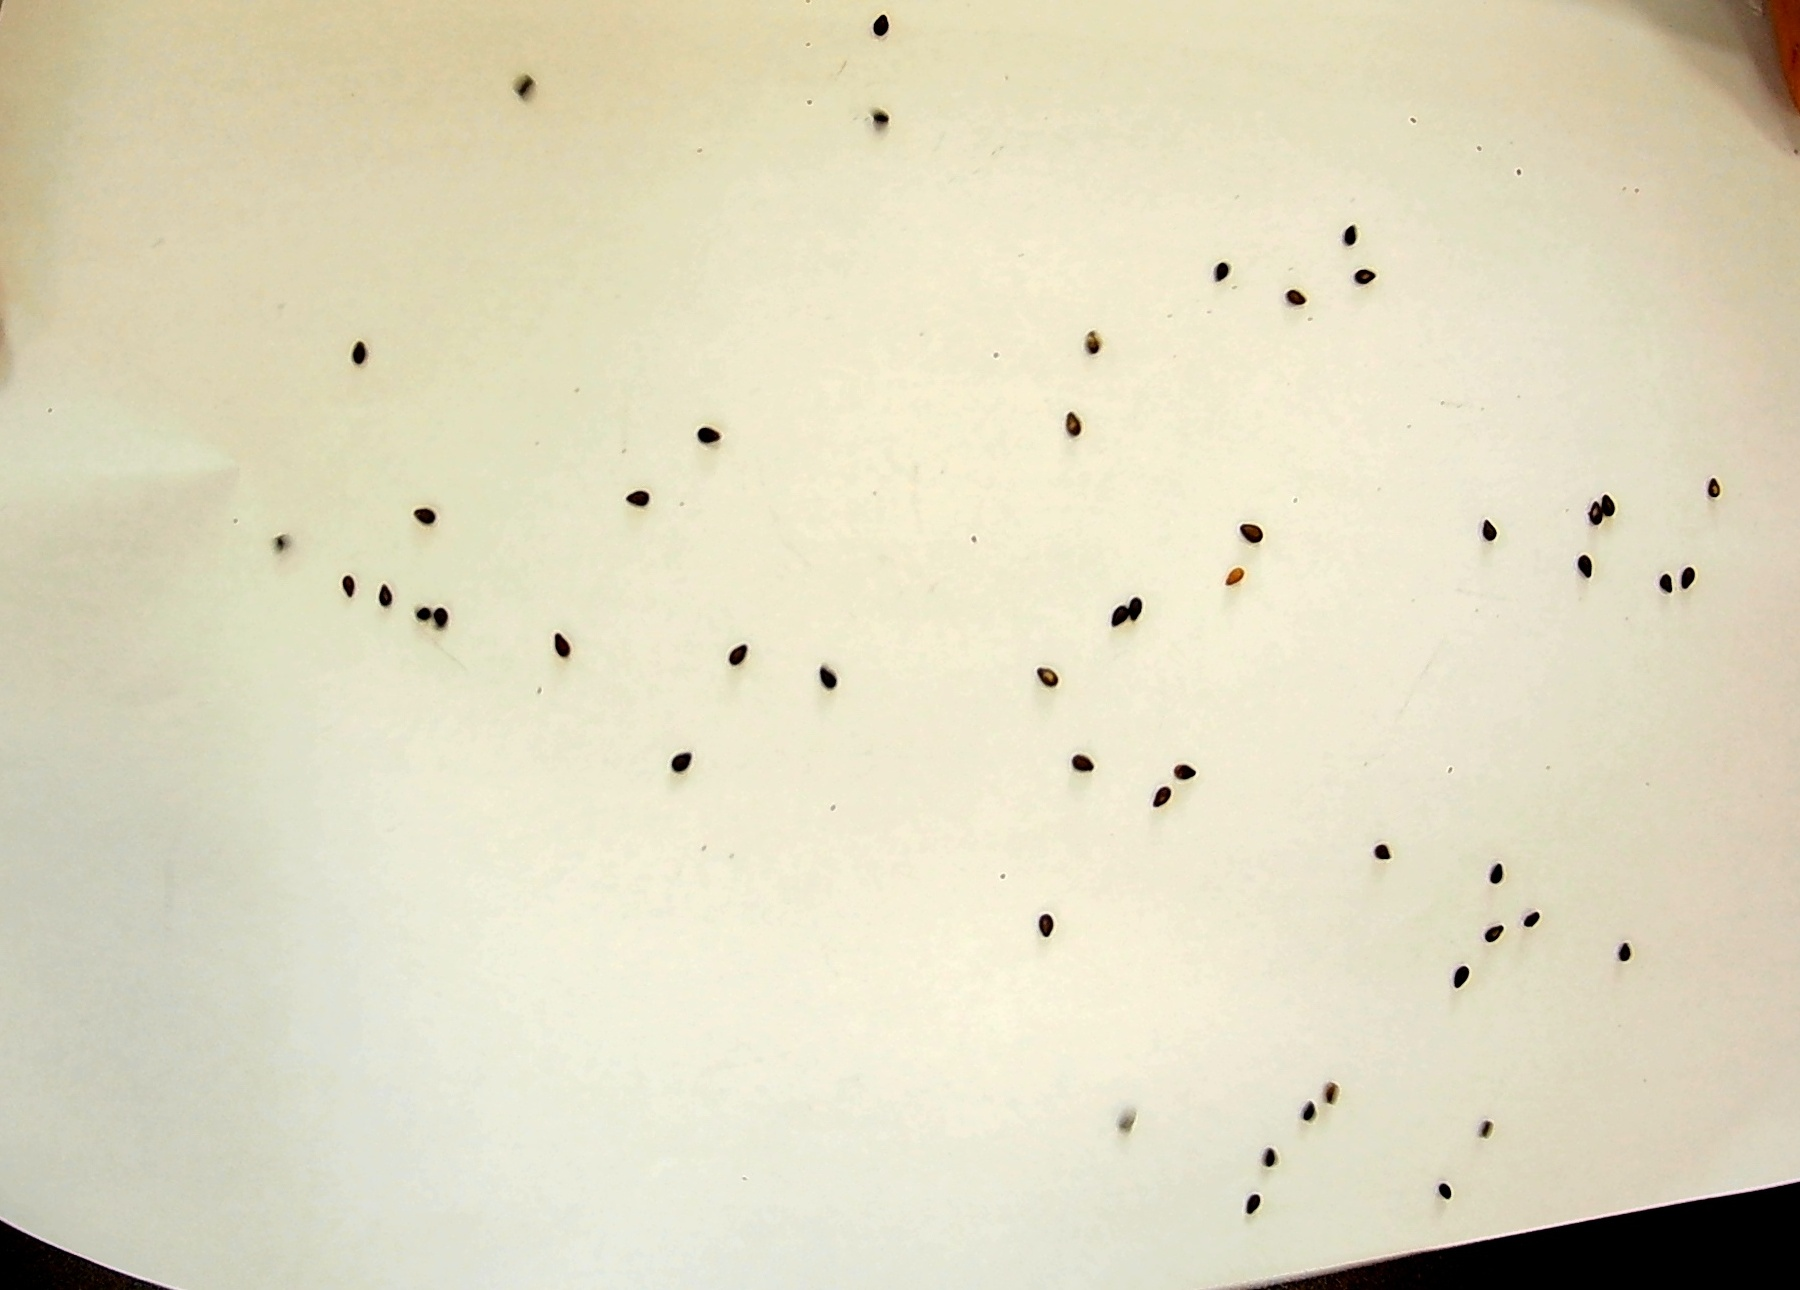sesami: (606, 477, 661, 522), (1314, 1061, 1355, 1118), (682, 417, 735, 461), (1455, 505, 1514, 542), (1060, 392, 1100, 445), (1434, 956, 1478, 995), (1238, 1189, 1275, 1234), (1637, 570, 1681, 606), (807, 660, 841, 704), (1127, 592, 1162, 634), (1214, 564, 1253, 600), (428, 596, 458, 644), (1035, 656, 1073, 692), (1259, 1142, 1288, 1188), (1465, 919, 1508, 949), (1603, 482, 1634, 524), (1575, 491, 1612, 526), (1074, 327, 1112, 360), (327, 565, 359, 605), (1160, 757, 1197, 789), (541, 618, 569, 662), (1213, 257, 1243, 296), (1331, 218, 1370, 249), (1434, 1170, 1464, 1210), (1665, 561, 1700, 595), (342, 328, 366, 377), (368, 581, 400, 616), (657, 747, 693, 778), (1232, 517, 1261, 554), (1281, 278, 1307, 318), (1362, 835, 1393, 870), (1146, 785, 1173, 822), (1021, 910, 1060, 937), (719, 637, 751, 669), (1520, 907, 1552, 938), (1573, 542, 1603, 574), (1060, 752, 1095, 780), (1607, 934, 1637, 966), (1487, 854, 1520, 882), (1093, 598, 1120, 628), (410, 497, 435, 531), (1293, 1097, 1321, 1127), (1345, 267, 1379, 288), (1695, 477, 1720, 504), (873, 6, 892, 42)
